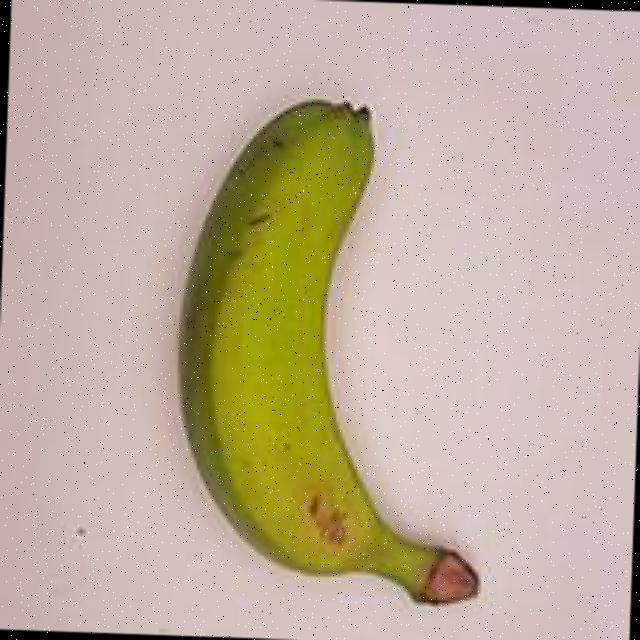Unripe: (95, 50, 542, 638)
